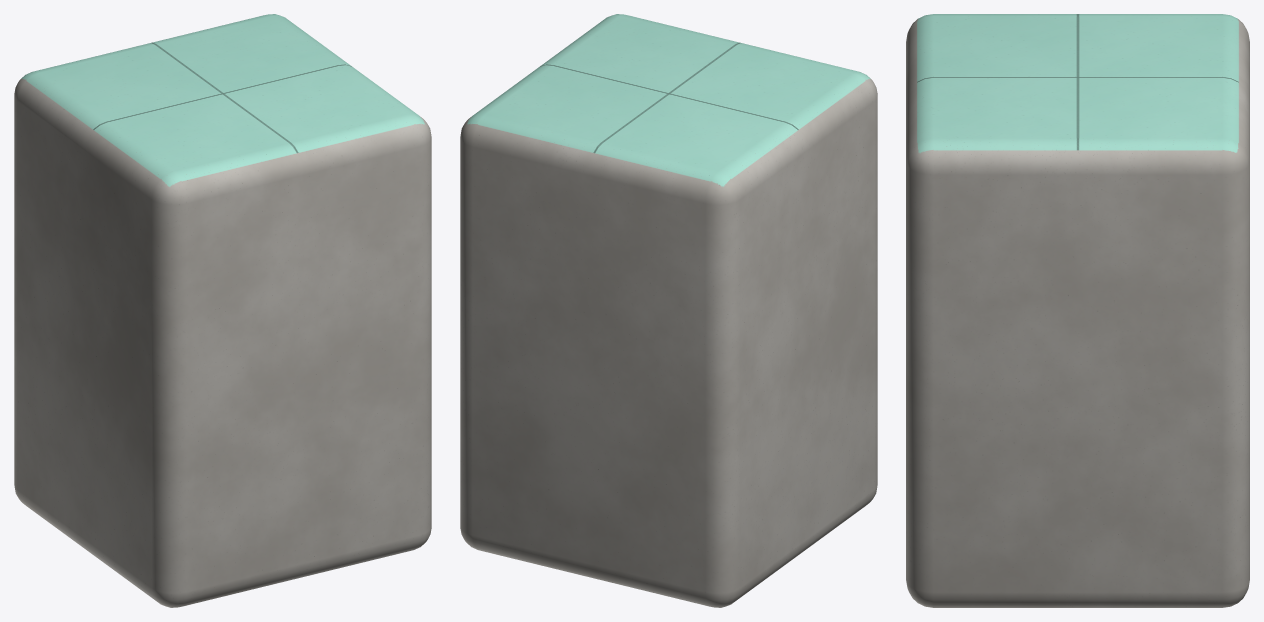
The model's file is SM_Tile_Mint.fbx.
3 views of the same model, side by side, from view 1: azimuth 30°, elevation 25°; view 2: azimuth 150°, elevation 25°; view 3: azimuth 270°, elevation 25° (orthographic). The views are drawn at different scales.
Parts seen in each view (by area): view 1: SM_Tile_Mint; view 2: SM_Tile_Mint; view 3: SM_Tile_Mint.
Boxes of the visible parts, x1,y1,x2,y2 form: SM_Tile_Mint: (14, 14, 431, 607); SM_Tile_Mint: (460, 14, 877, 607); SM_Tile_Mint: (906, 14, 1249, 607).
Size of the model in its own units: 2 by 3 by 2.
